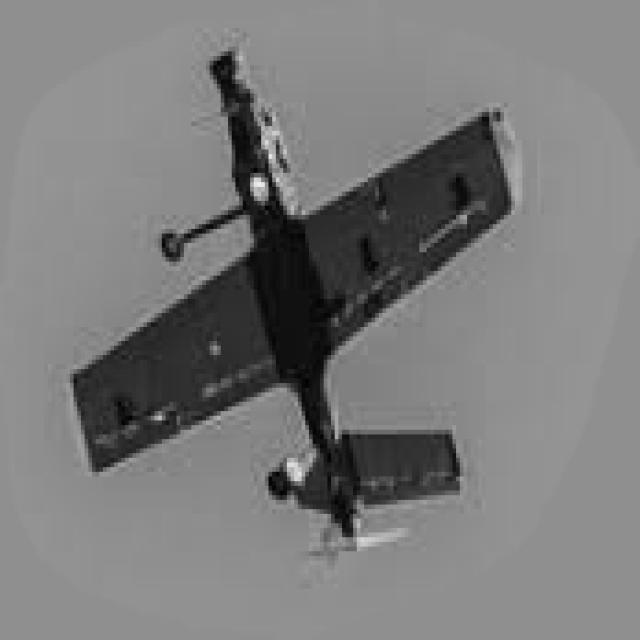iha: (6, 48, 515, 542)
